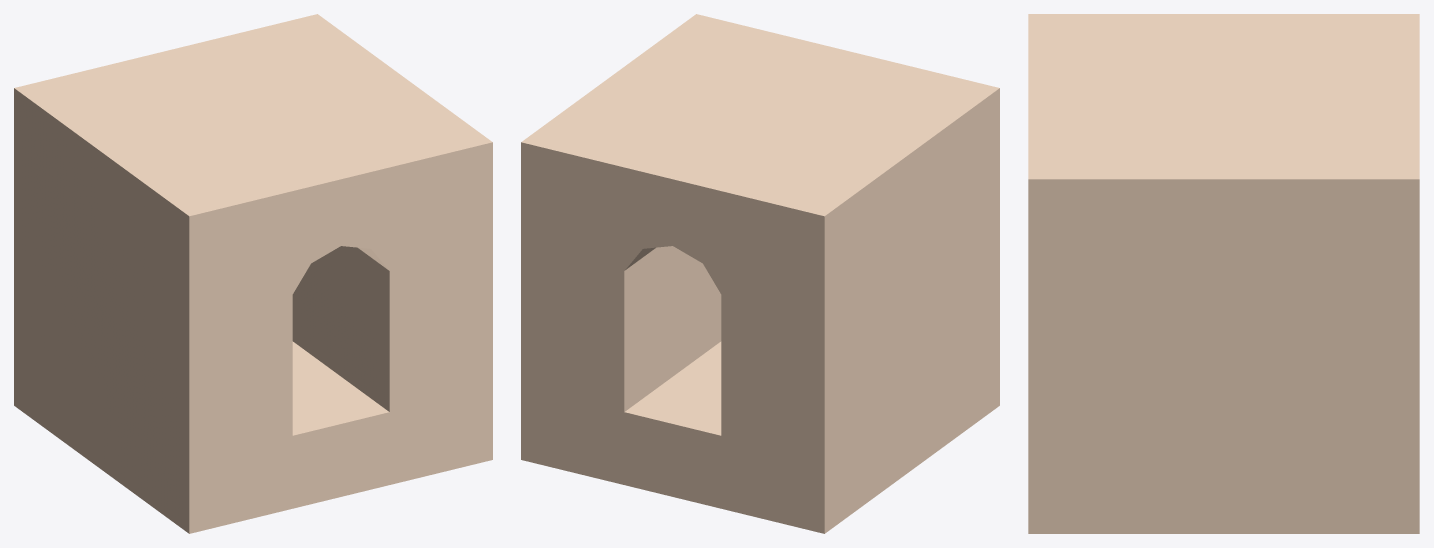
The model's file is Abstract_Castle_Block_1_Unit_Beige_Window_04.fbx.
3 renders of one model, left to right at view 1: azimuth 30°, elevation 25°; view 2: azimuth 150°, elevation 25°; view 3: azimuth 270°, elevation 25°, orthographic. The views are drawn at different scales.
Parts seen in each view (by area): view 1: Abstract_Castle_Block_1_Unit_Beige_Window_04; view 2: Abstract_Castle_Block_1_Unit_Beige_Window_04; view 3: Abstract_Castle_Block_1_Unit_Beige_Window_04.
Part boxes in pixels (bbox=[...]): Abstract_Castle_Block_1_Unit_Beige_Window_04: bbox=[14, 14, 492, 533]; Abstract_Castle_Block_1_Unit_Beige_Window_04: bbox=[521, 14, 999, 533]; Abstract_Castle_Block_1_Unit_Beige_Window_04: bbox=[1028, 14, 1419, 533].
Bounding box in the file's own units: 98.43 × 98.43 × 98.43.
